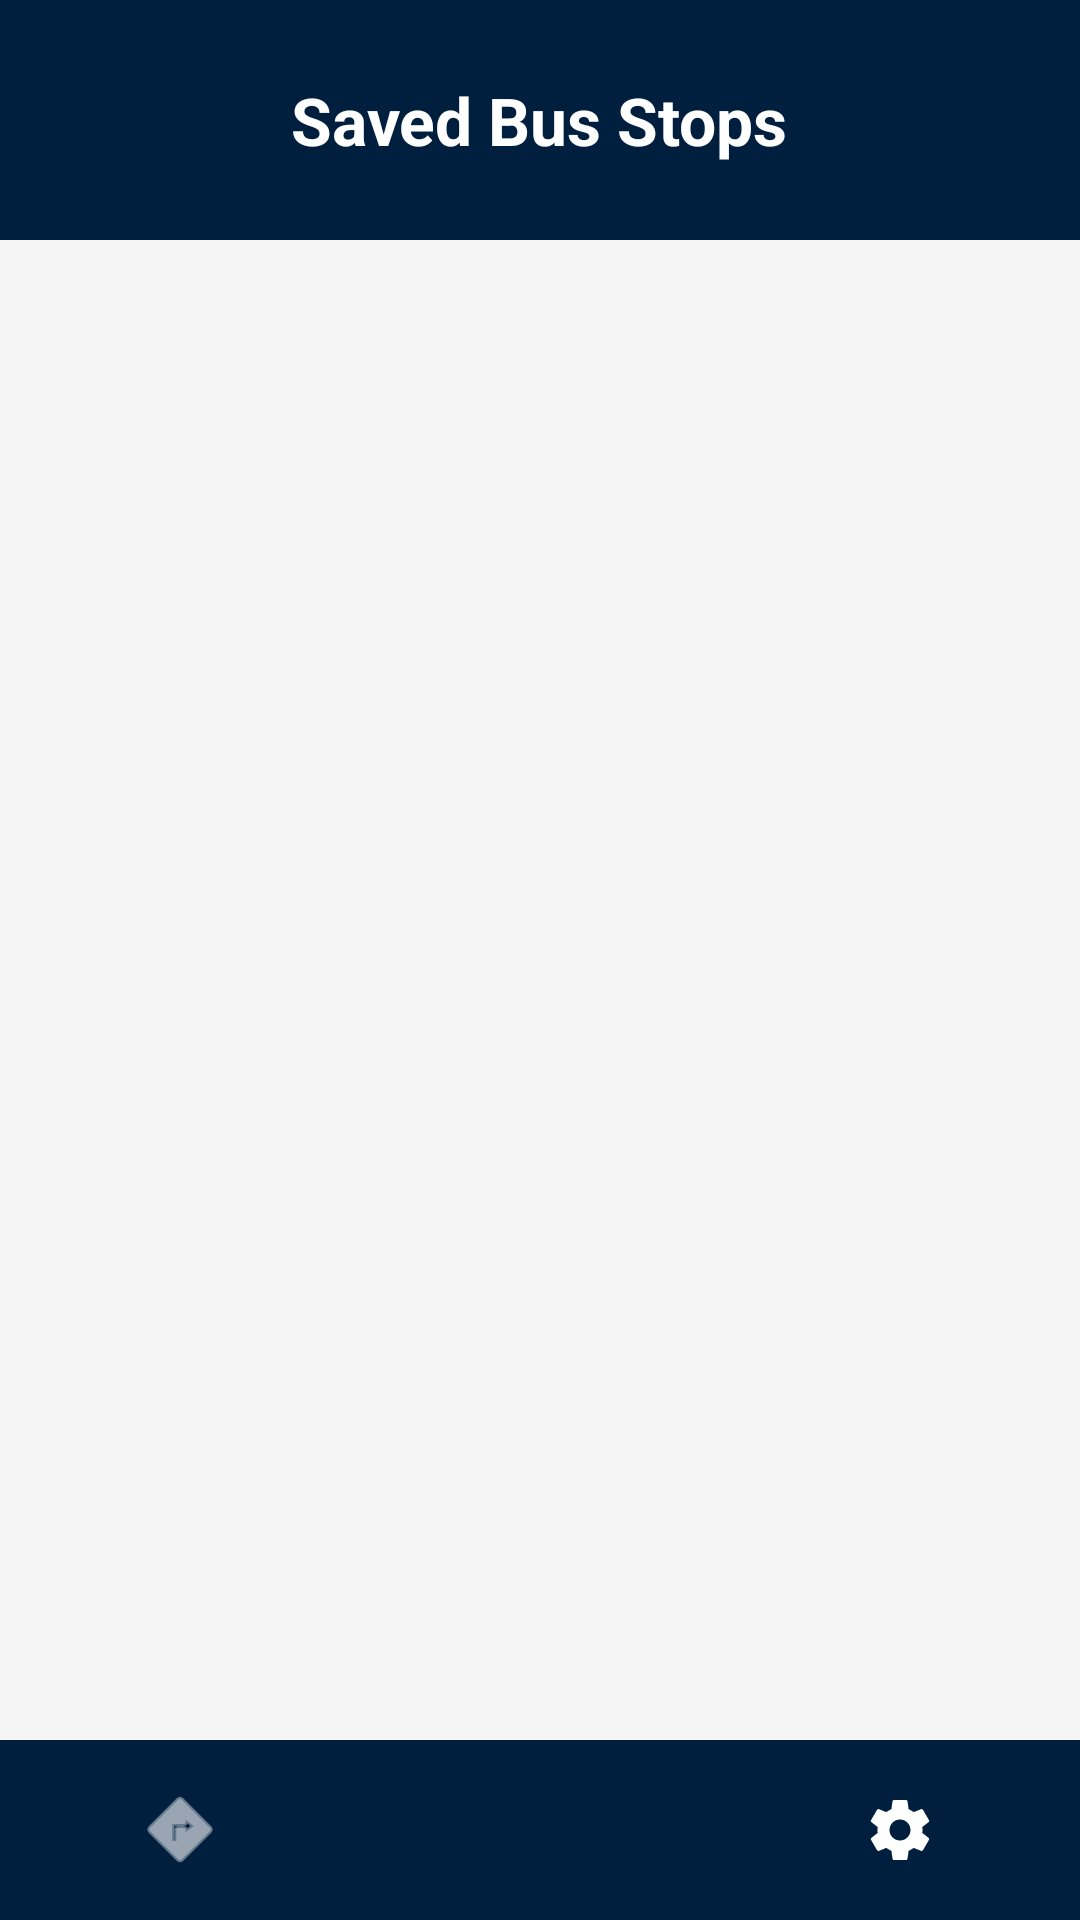

Icon bounding boxes for this 1080 × 1920 phone screenshot, format (x1=x1, y1=y1, x2=x2, y2=y2):
Settings: (x1=870, y1=1800, x2=929, y2=1860)
